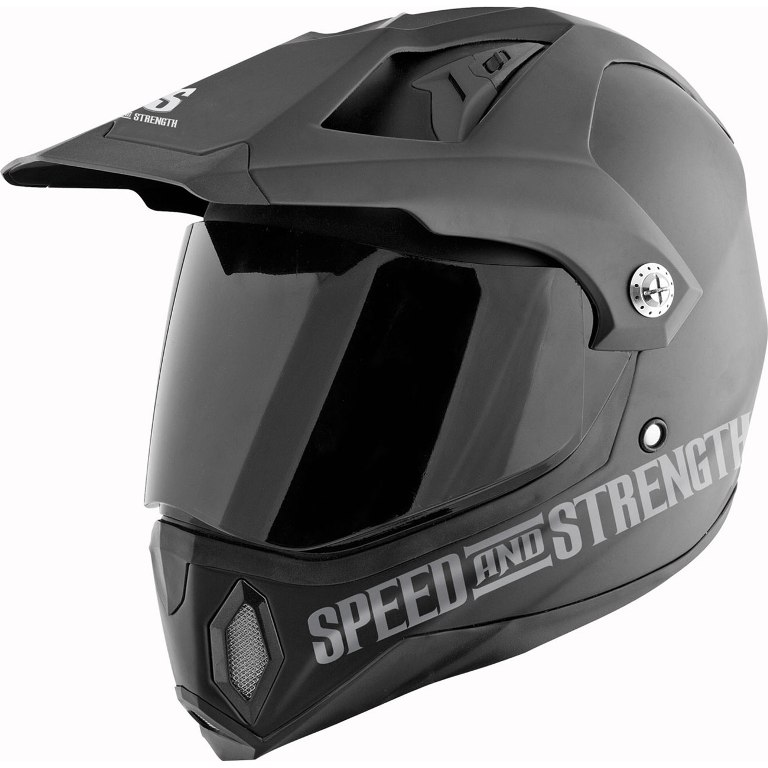with_helmet: (3, 2, 767, 762)
